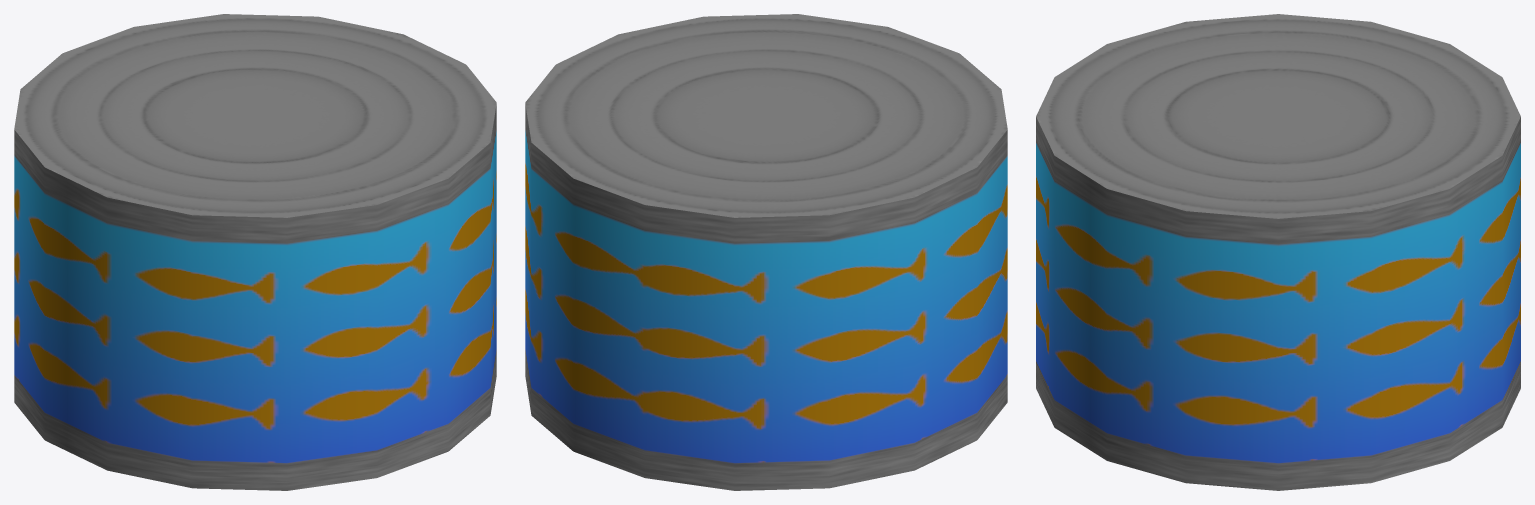
Rendered from tincanfish.glb.
3 renders of one model, left to right at view 1: azimuth 30°, elevation 25°; view 2: azimuth 150°, elevation 25°; view 3: azimuth 270°, elevation 25°, orthographic.
Parts seen in each view (by area): view 1: tincanfish; view 2: tincanfish; view 3: tincanfish.
Part boxes in pixels (x1,y1,x2,y2): tincanfish: [14, 14, 496, 490]; tincanfish: [525, 14, 1007, 490]; tincanfish: [1036, 14, 1520, 490].
Bounding box in the file's own units: 0.3916 × 0.2424 × 0.3916.
Materials: 1 (1 with a texture image).
